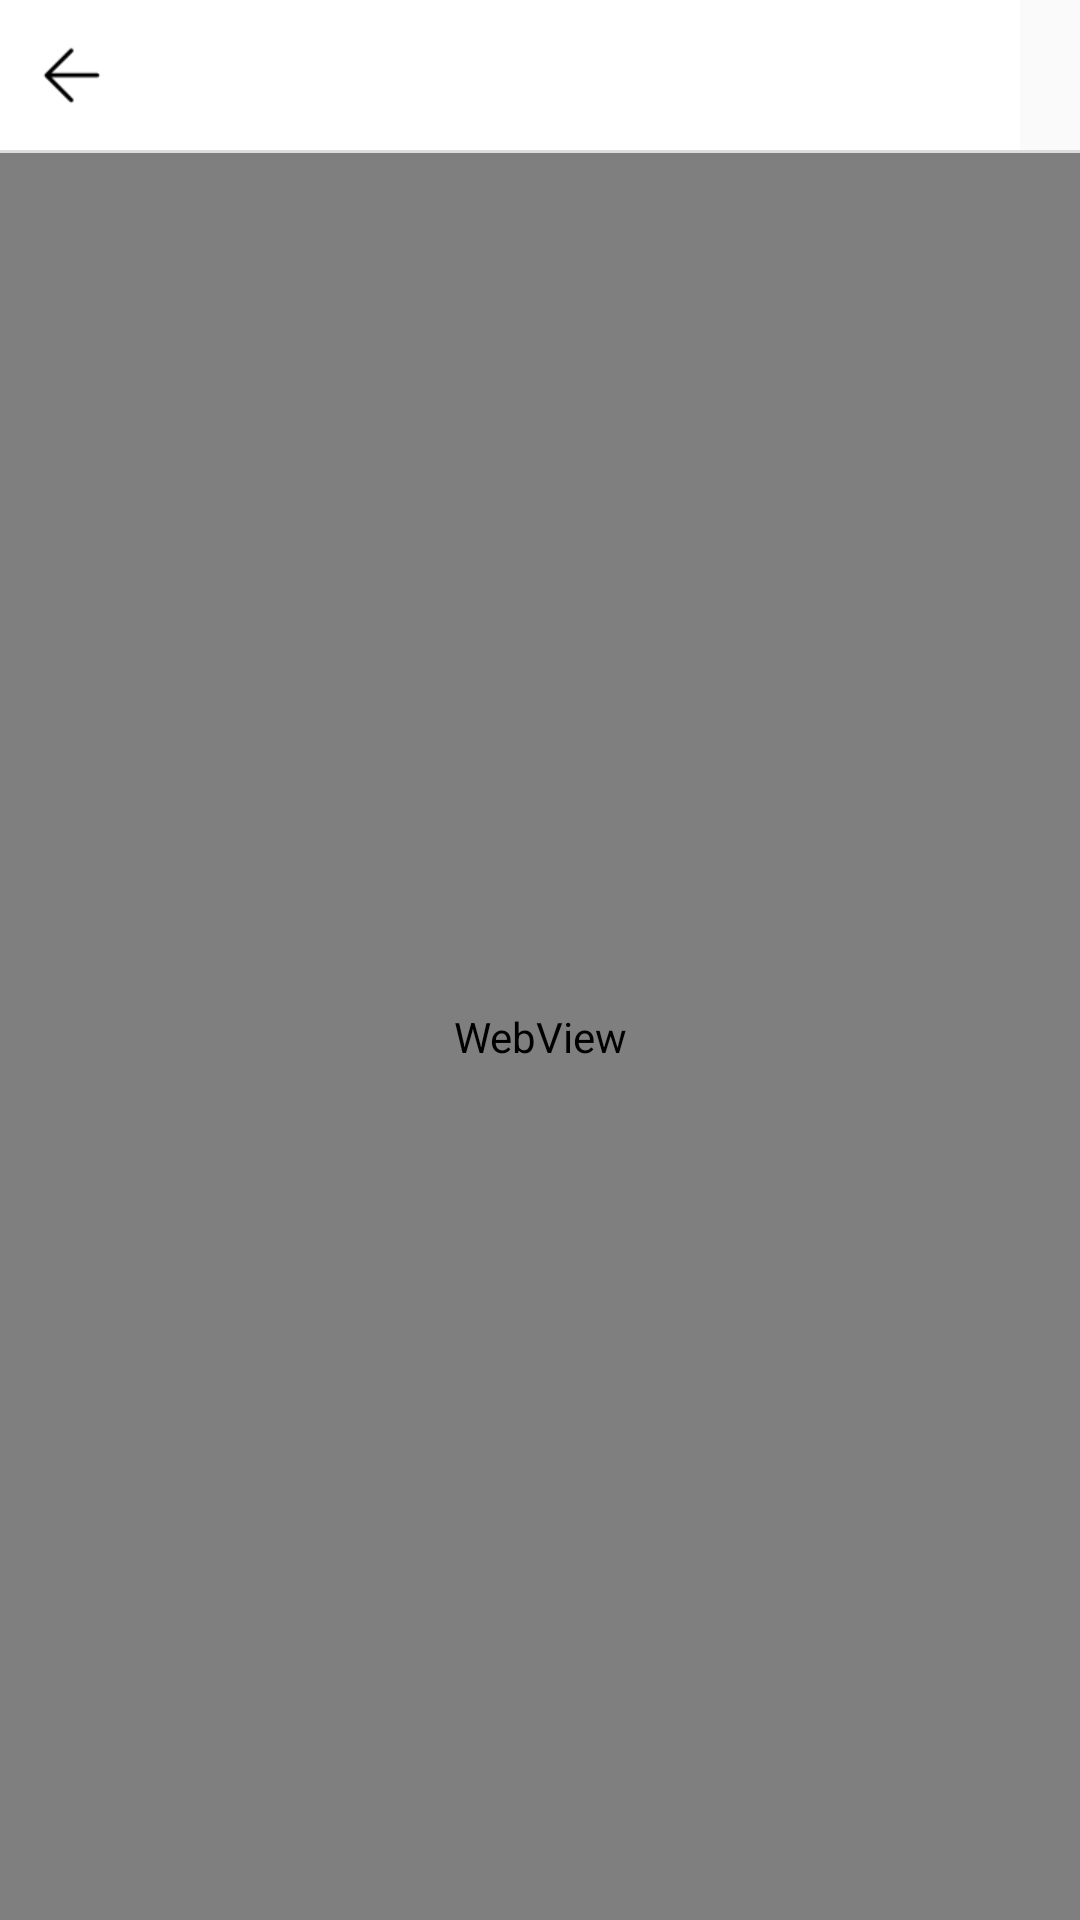

Named icons in this screenshot (1080 x 1920) and their centers, point (x, y):
back: point (71, 75)
